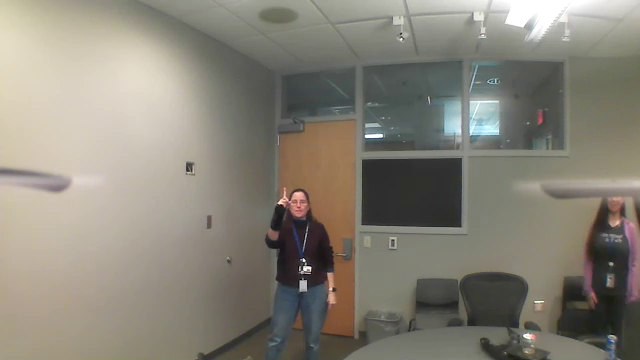up: (274, 184, 292, 211)
